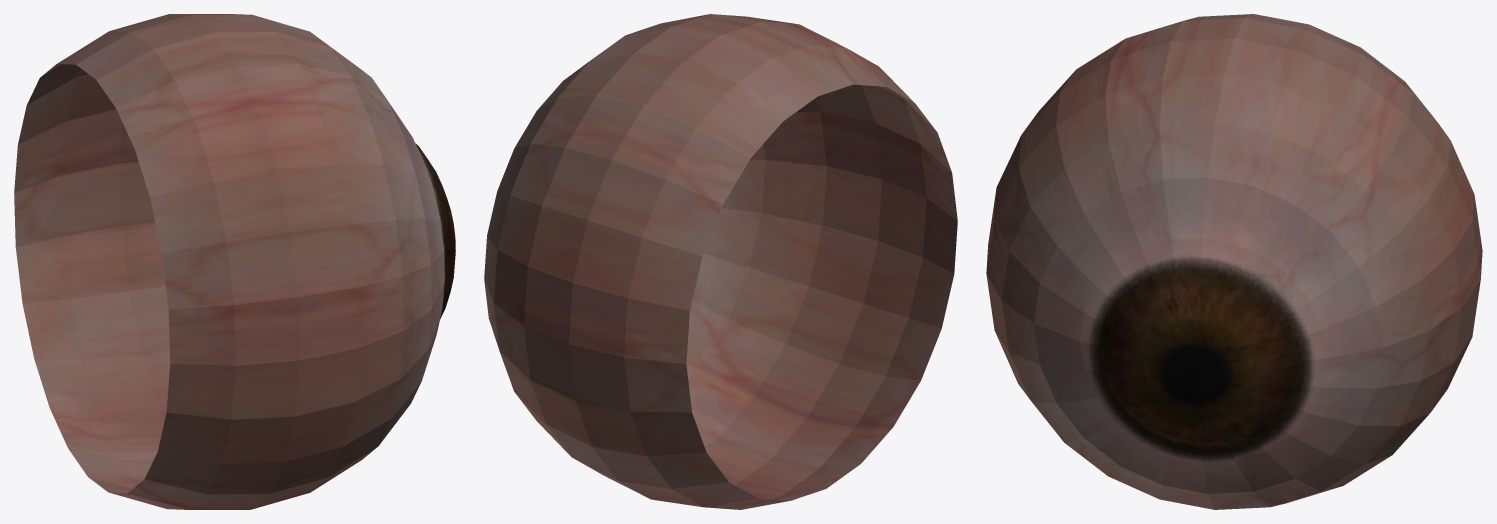
File: wrestlerR.glb
3 views of the same model, side by side, from view 1: azimuth 30°, elevation 25°; view 2: azimuth 150°, elevation 25°; view 3: azimuth 270°, elevation 25° (orthographic).
Parts seen in each view (by area): view 1: Object.012; view 2: Object.012; view 3: Object.012.
Part boxes in pixels (box(x1,y1,x2,y2)): Object.012: box(14, 14, 455, 509); Object.012: box(484, 14, 957, 509); Object.012: box(986, 14, 1482, 509).
Bounding box in the file's own units: 0.0266 × 0.0327 × 0.0325.
1 material, 1 textured.
